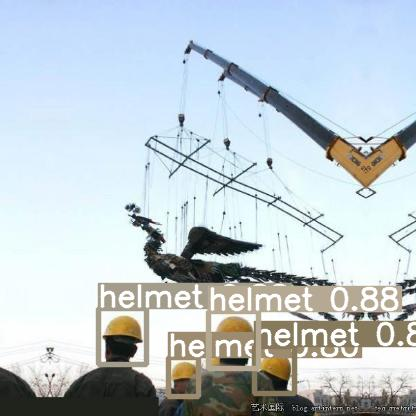helmet: (208, 311, 258, 368), (98, 308, 146, 364), (254, 346, 294, 393), (168, 357, 198, 396)
